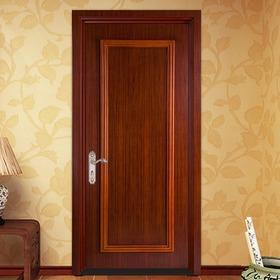door: (84, 22, 191, 271)
